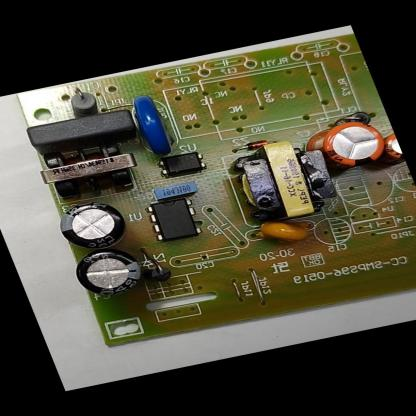Cap1: (295, 110, 400, 179)
Cap2: (378, 130, 406, 165)
Cap3: (48, 194, 136, 258)
Cap4: (66, 240, 161, 306)
MOSFET: (138, 190, 210, 251)
Mov: (117, 86, 189, 163)
Resistor: (60, 81, 110, 119)
Transformer: (221, 130, 349, 232), (30, 130, 148, 203)
